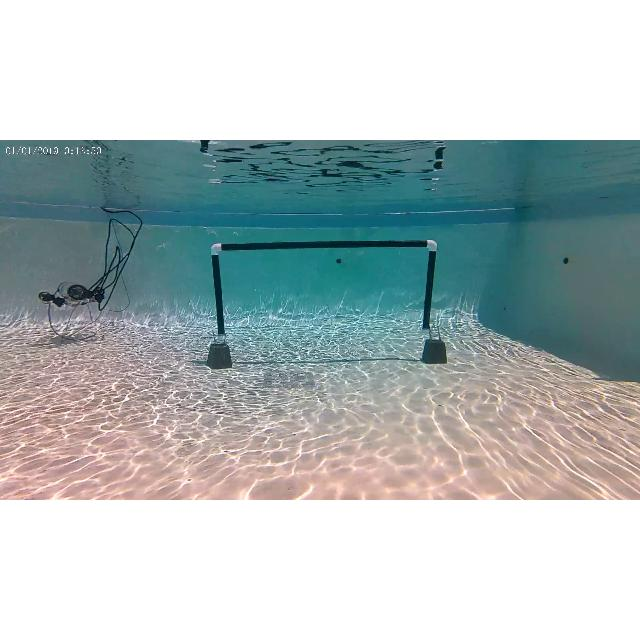prequal gate: (210, 240, 438, 340)
prequal gate leg l: (209, 242, 229, 342)
prequal gate leg r: (424, 239, 438, 333)
